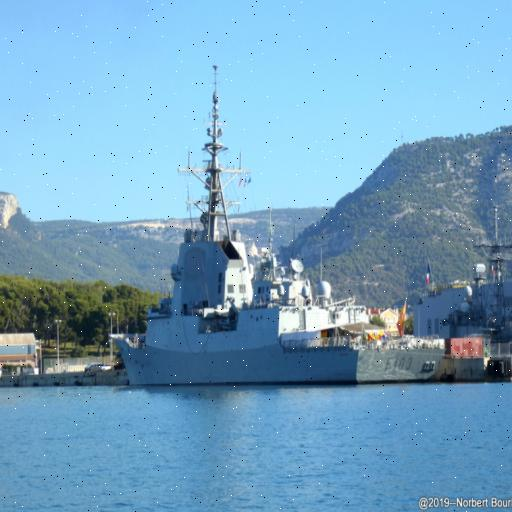Fragata: (103, 57, 455, 395)
